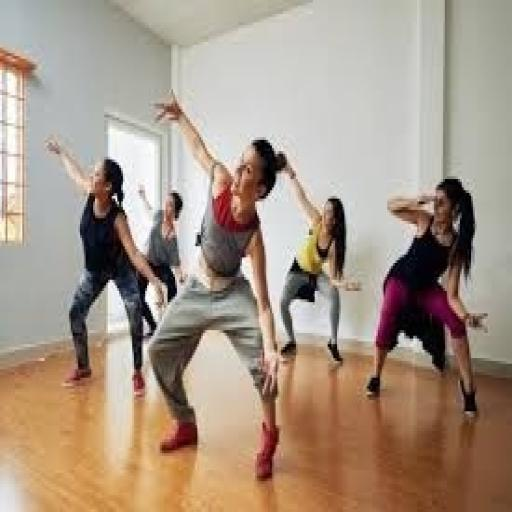dancing: (145, 87, 289, 484), (43, 132, 167, 400), (363, 174, 492, 422), (274, 148, 363, 370)
